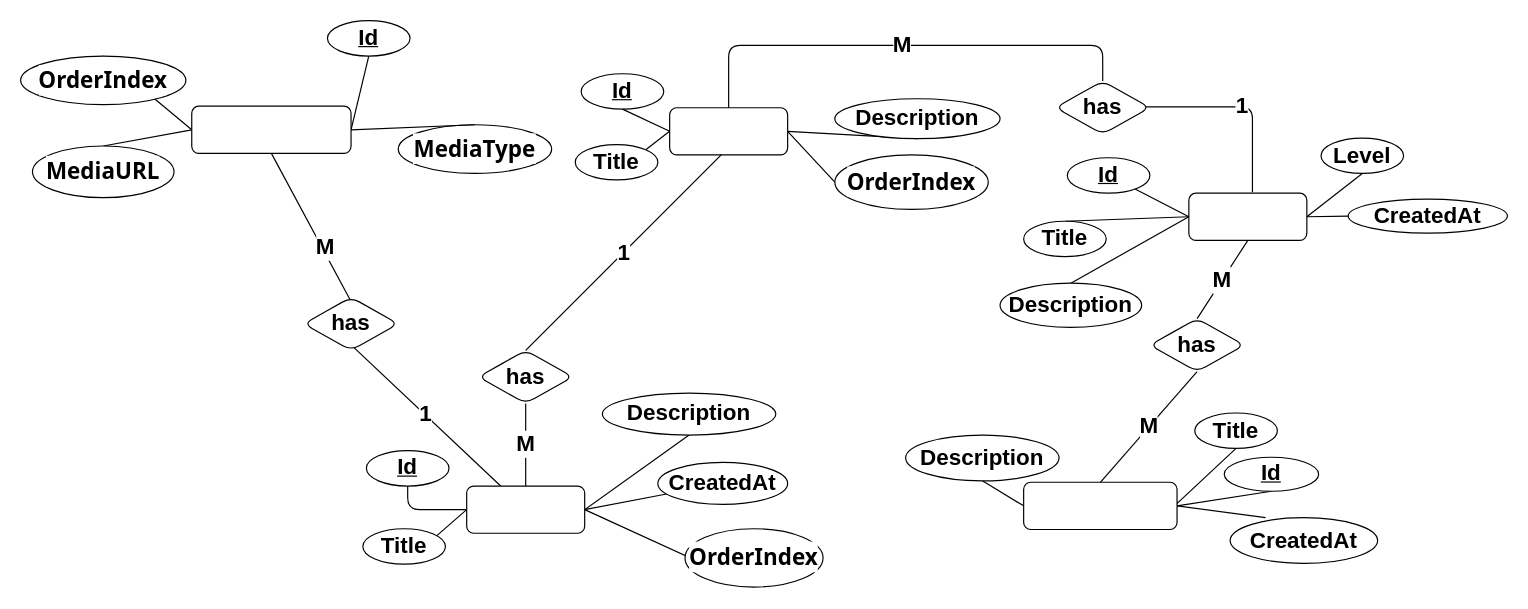
Image size: 1528x609. Some labels were removed from this diagram. The centre of each missing label's shape, as x and y in pixels:
"Course" belongs at point (1247, 216).
"LearningPath" belongs at point (1099, 505).
"LessonMedia" belongs at point (271, 129).
"Lessons" belongs at point (525, 509).
"Module" belongs at point (728, 131).
